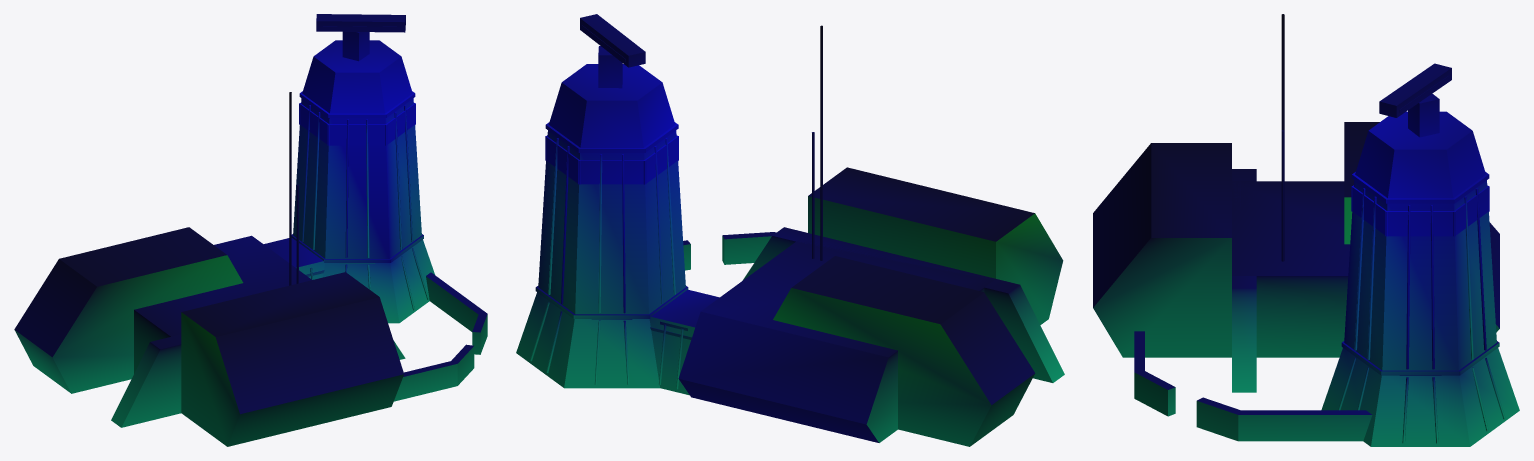
Rendered from l_turretcontrol_damaged.glb.
The picture shows the model from 3 angles, left to right: view 1: azimuth 30°, elevation 25°; view 2: azimuth 150°, elevation 25°; view 3: azimuth 270°, elevation 25°; orthographic projection. The views are drawn at different scales.
Visible parts, largest first — view 1: lod0_l_turretcontrol; view 2: lod0_l_turretcontrol; view 3: lod0_l_turretcontrol.
Part boxes in pixels (bbox=[...]): lod0_l_turretcontrol: bbox=[14, 14, 487, 446]; lod0_l_turretcontrol: bbox=[516, 14, 1064, 446]; lod0_l_turretcontrol: bbox=[1093, 14, 1519, 446].
Size of the model in its own units: 24.48 by 16.05 by 19.
